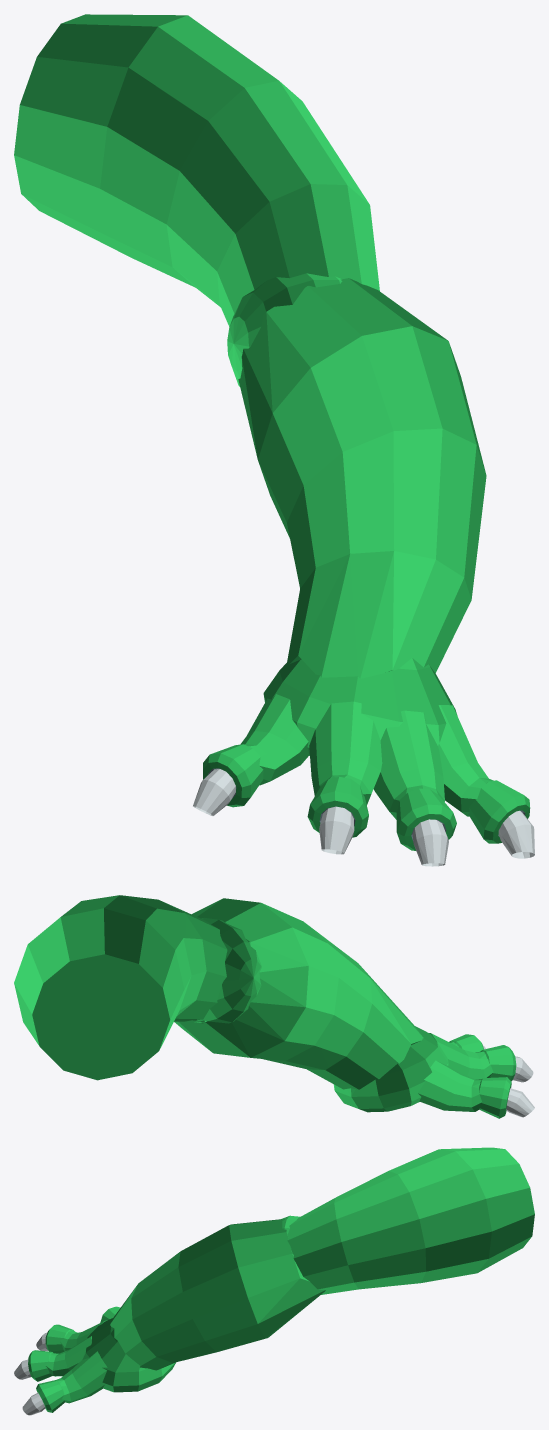
Rendered from GreenLongLeg.fbx.
The picture shows the model from 3 angles, top to bottom: view 1: azimuth 30°, elevation 25°; view 2: azimuth 150°, elevation 25°; view 3: azimuth 270°, elevation 25°; orthographic projection. The views are drawn at different scales.
Parts seen in each view (by area): view 1: group1236733959, group1832439925, group143748101, group1335273033, group6413938, group1239300912, group856631508, group669527044; view 2: group1832439925, group1236733959, group1239300912, group1335273033, group669527044, group143748101, group6413938; view 3: group1832439925, group1236733959, group1335273033, group856631508, group6413938, group143748101.
Part boxes in pixels (x1,y1,x2,y2): group1236733959: (238, 278, 486, 678); group1832439925: (14, 14, 379, 326); group143748101: (307, 701, 382, 854); group1335273033: (263, 658, 457, 755); group6413938: (373, 710, 456, 866); group1239300912: (193, 694, 309, 815); group856631508: (438, 705, 534, 858); group669527044: (227, 273, 342, 386); group1832439925: (14, 895, 227, 1080); group1236733959: (174, 898, 423, 1089); group1239300912: (418, 1060, 534, 1118); group1335273033: (333, 1026, 448, 1112); group669527044: (194, 918, 261, 1023); group143748101: (429, 1033, 533, 1082); group6413938: (449, 1034, 486, 1052); group1832439925: (287, 1147, 534, 1294); group1236733959: (110, 1219, 325, 1370); group1335273033: (82, 1318, 175, 1392); group856631508: (22, 1351, 107, 1415); group6413938: (14, 1336, 91, 1381); group143748101: (36, 1320, 107, 1353).
Bounding box in the file's own units: 41.89 × 50.39 × 86.79.
